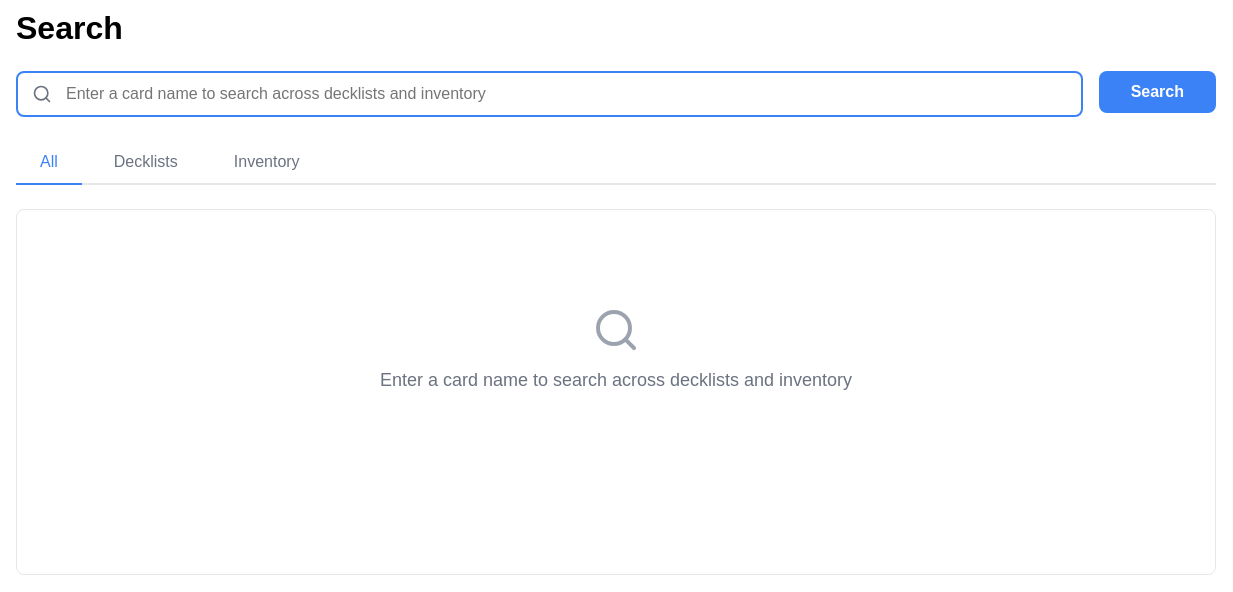
Test case: Error Handling › should show error message when API request fails
The image size is (1233, 592).
Type "test" into the field with placeholder "Enter a card name to search across decklists and inventory" at (549, 94), box [16,71,1083,117]
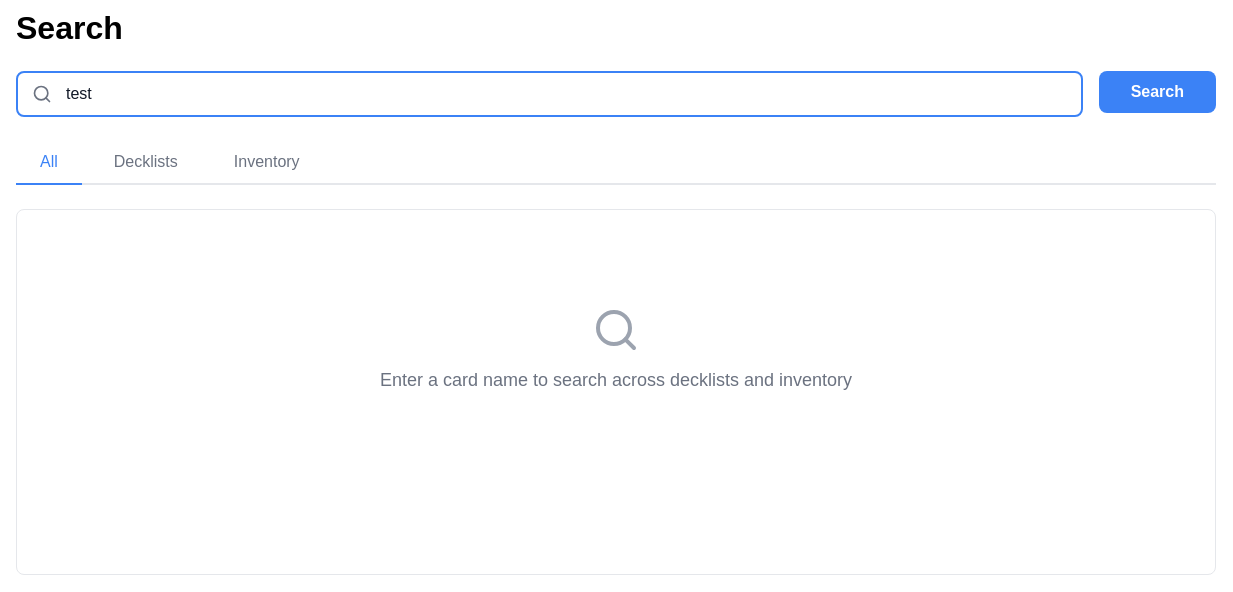
Click the button "Search" at (1157, 92), box [1099,71,1216,113]
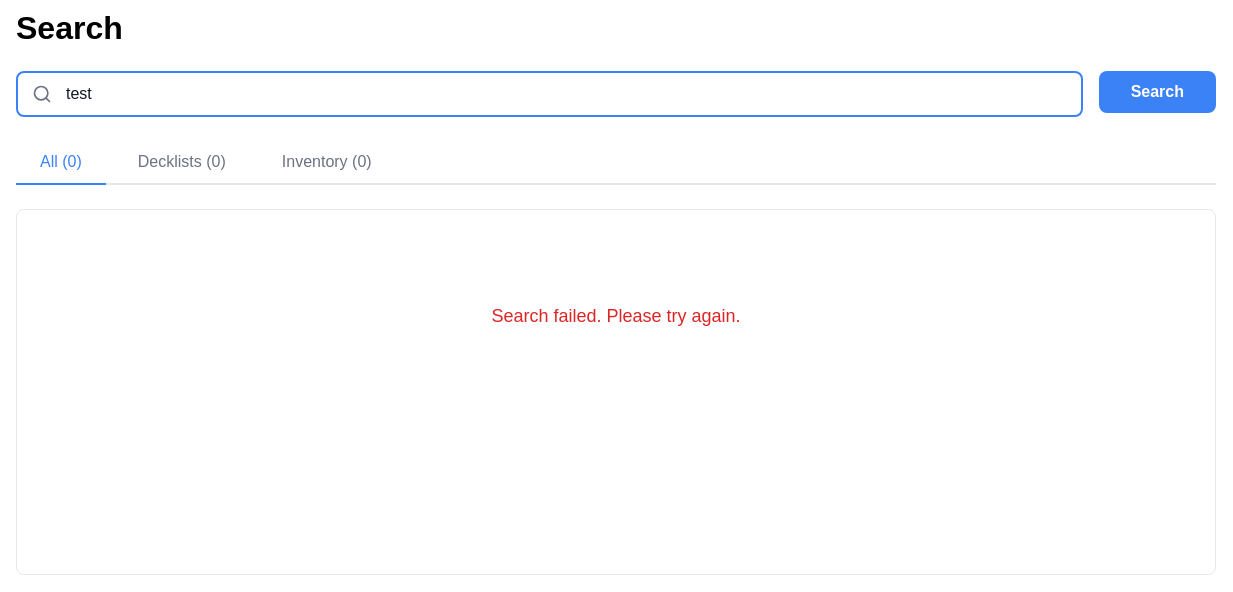
Now the text "Search failed. Please try again." is shown, box [491,306,741,327]
